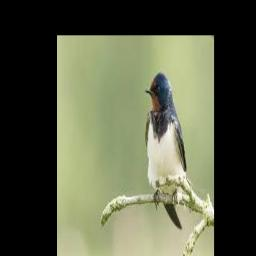Swallow: (144, 73, 186, 230)
